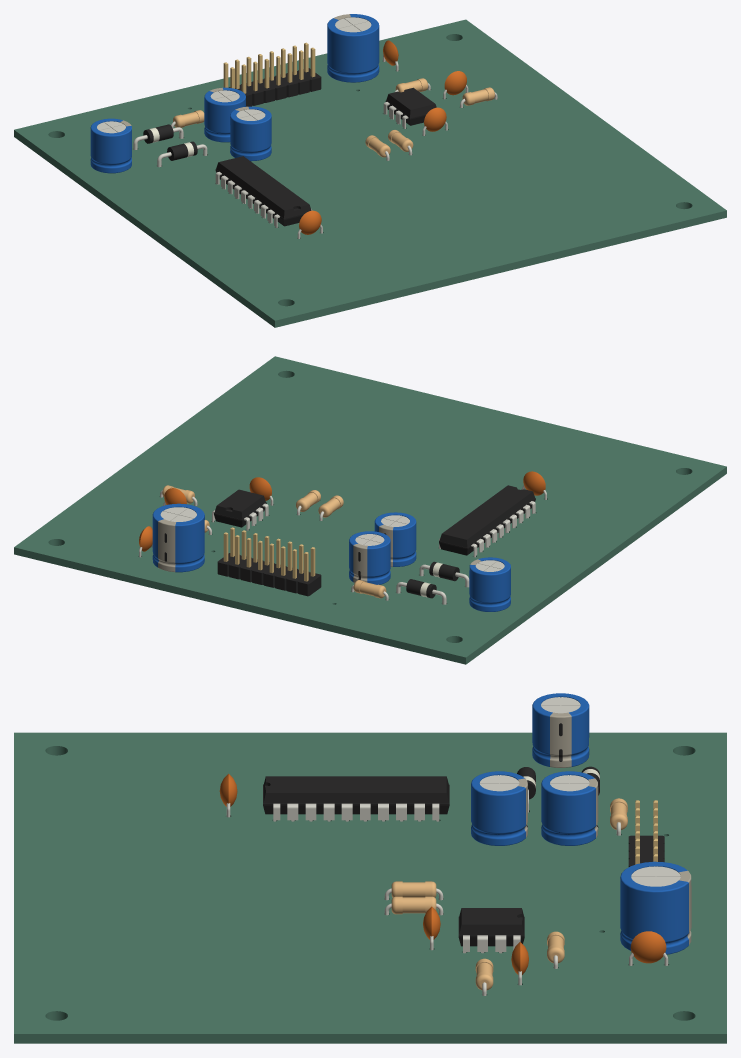
File: vinyl-adc-power.glb
The picture shows the model from 3 angles, top to bottom: view 1: azimuth 30°, elevation 25°; view 2: azimuth 150°, elevation 25°; view 3: azimuth 270°, elevation 25°; orthographic projection. The views are drawn at different scales.
Parts seen in each view (by area): view 1: =>[0:1:1:18], =>[0:1:1:15] (×3), =>[0:1:1:11], =>[0:1:1:13], =>[0:1:1:9], =>[0:1:1:17], =>[0:1:1:3] (×2); view 2: =>[0:1:1:18], =>[0:1:1:15] (×3), =>[0:1:1:11], =>[0:1:1:13], =>[0:1:1:9], =>[0:1:1:17], =>[0:1:1:3] (×2); view 3: =>[0:1:1:18], =>[0:1:1:15] (×3), =>[0:1:1:13], =>[0:1:1:9], =>[0:1:1:17], =>[0:1:1:7] (×2), =>[0:1:1:11], =>[0:1:1:5].
Boxes of the visible parts, <box> form: =>[0:1:1:18]: <box>14,19,726,327</box>; =>[0:1:1:15] (×3): <box>90,87,271,173</box>; =>[0:1:1:11]: <box>223,42,321,106</box>; =>[0:1:1:13]: <box>215,156,312,227</box>; =>[0:1:1:9]: <box>327,14,379,82</box>; =>[0:1:1:17]: <box>383,87,436,128</box>; =>[0:1:1:3] (×2): <box>133,124,207,167</box>; =>[0:1:1:18]: <box>14,356,726,664</box>; =>[0:1:1:15] (×3): <box>349,512,510,611</box>; =>[0:1:1:11]: <box>217,527,321,596</box>; =>[0:1:1:13]: <box>439,485,535,557</box>; =>[0:1:1:9]: <box>152,503,204,572</box>; =>[0:1:1:17]: <box>212,489,268,530</box>; =>[0:1:1:3] (×2): <box>396,561,469,604</box>; =>[0:1:1:18]: <box>14,732,726,1043</box>; =>[0:1:1:15] (×3): <box>471,693,598,845</box>; =>[0:1:1:13]: <box>263,776,449,821</box>; =>[0:1:1:9]: <box>620,861,691,954</box>; =>[0:1:1:17]: <box>458,908,524,953</box>; =>[0:1:1:7] (×2): <box>384,881,443,915</box>; =>[0:1:1:11]: <box>628,800,664,866</box>; =>[0:1:1:5]: <box>629,931,668,965</box>.
Bounding box in the file's own units: 0.1 × 0.0133 × 0.1.
